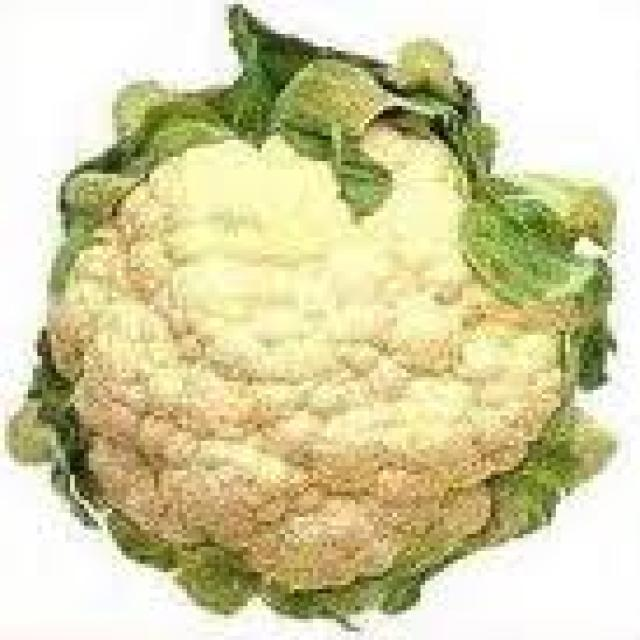cauliflower: (33, 30, 598, 593)
